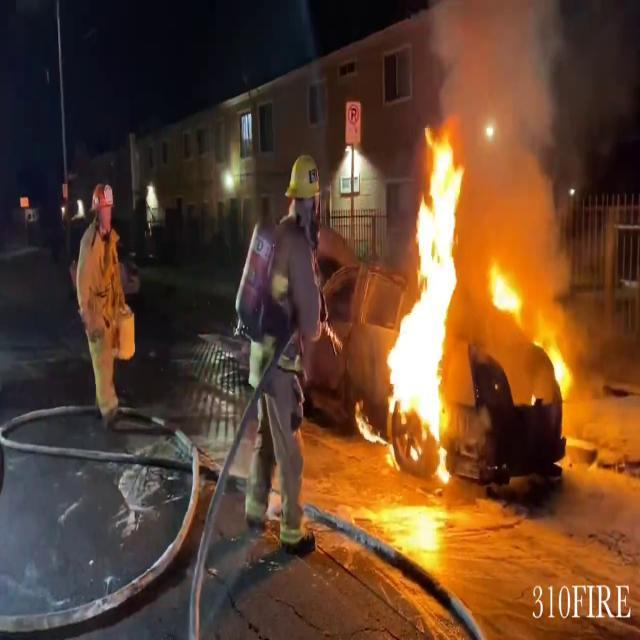Fire: (378, 119, 472, 476), (486, 250, 524, 328)
Smoke: (440, 0, 590, 269)
